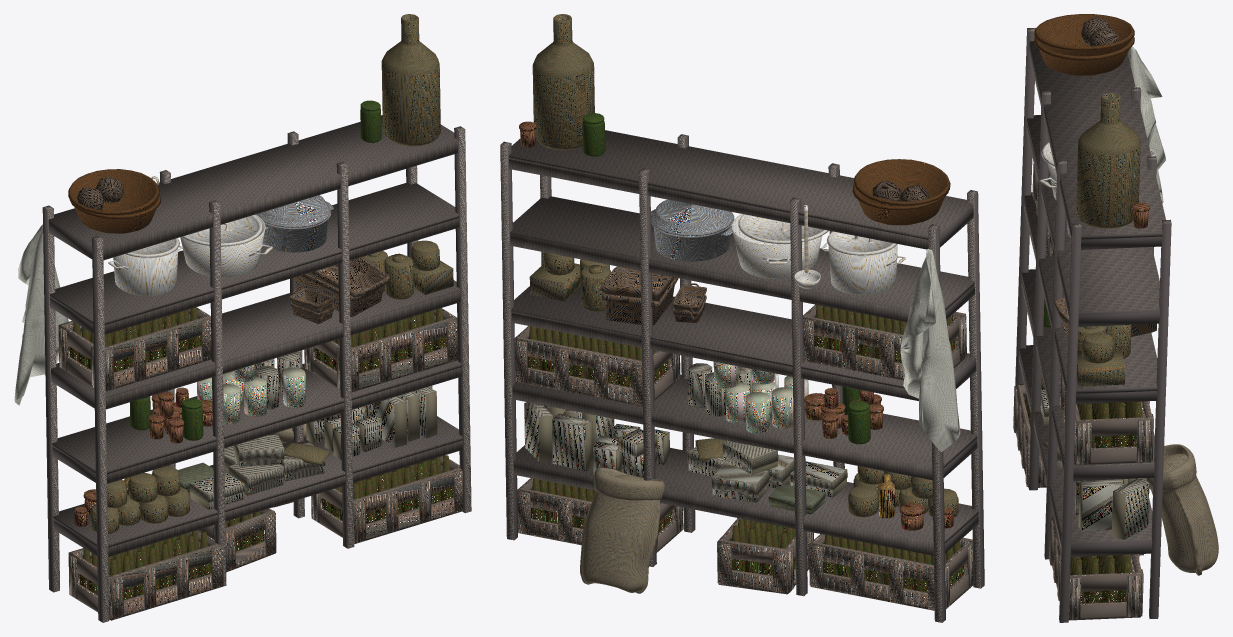
File: küche schrank.fbx
3 renders of one model, left to right at view 1: azimuth 30°, elevation 25°; view 2: azimuth 150°, elevation 25°; view 3: azimuth 270°, elevation 25°, orthographic. The views are drawn at different scales.
Parts seen in each view (by area): view 1: mesh_497, mesh_498, mesh_226, mesh_435, mesh_432, mesh_433, mesh_434, mesh_634, mesh_437, mesh_440, mesh_186, mesh_442 (+33 smaller); view 2: mesh_497, mesh_498, mesh_128, mesh_634, mesh_435, mesh_226, mesh_434, mesh_432, mesh_433, mesh_436, mesh_186, mesh_442 (+34 smaller); view 3: mesh_497, mesh_498, mesh_226, mesh_128, mesh_433, mesh_434, mesh_186, mesh_214, mesh_215, mesh_634, mesh_187, mesh_440 (+11 smaller).
Part boxes in pixels (<box>): mesh_497: <box>42,115,471,622</box>; mesh_498: <box>48,140,462,556</box>; mesh_226: <box>381,14,440,146</box>; mesh_435: <box>68,530,223,620</box>; mesh_432: <box>58,307,211,391</box>; mesh_433: <box>311,455,463,543</box>; mesh_434: <box>304,308,457,392</box>; mesh_634: <box>14,224,68,405</box>; mesh_437: <box>80,530,211,599</box>; mesh_440: <box>322,455,453,523</box>; mesh_186: <box>68,169,159,215</box>; mesh_442: <box>108,245,182,295</box>; mesh_497: <box>500,130,984,622</box>; mesh_498: <box>509,155,978,555</box>; mesh_128: <box>580,467,664,593</box>; mesh_634: <box>900,248,960,451</box>; mesh_435: <box>809,534,973,610</box>; mesh_226: <box>532,14,594,150</box>; mesh_434: <box>514,326,680,406</box>; mesh_432: <box>803,304,966,380</box>; mesh_433: <box>517,478,683,552</box>; mesh_436: <box>717,518,813,594</box>; mesh_186: <box>853,159,950,206</box>; mesh_442: <box>821,243,905,294</box>; mesh_497: <box>1015,28,1171,622</box>; mesh_498: <box>1019,43,1162,556</box>; mesh_226: <box>1075,92,1140,228</box>; mesh_128: <box>1146,444,1218,575</box>; mesh_433: <box>1049,516,1143,620</box>; mesh_434: <box>1059,369,1153,465</box>; mesh_186: <box>1034,14,1134,56</box>; mesh_214: <box>1111,478,1149,539</box>; mesh_215: <box>1078,479,1122,531</box>; mesh_634: <box>1127,46,1165,203</box>; mesh_187: <box>1034,36,1134,75</box>; mesh_440: <box>1070,554,1131,603</box>.
Size of the model in its own units: 199 by 220 by 80.2.
Materials: 17 (17 with a texture image).
